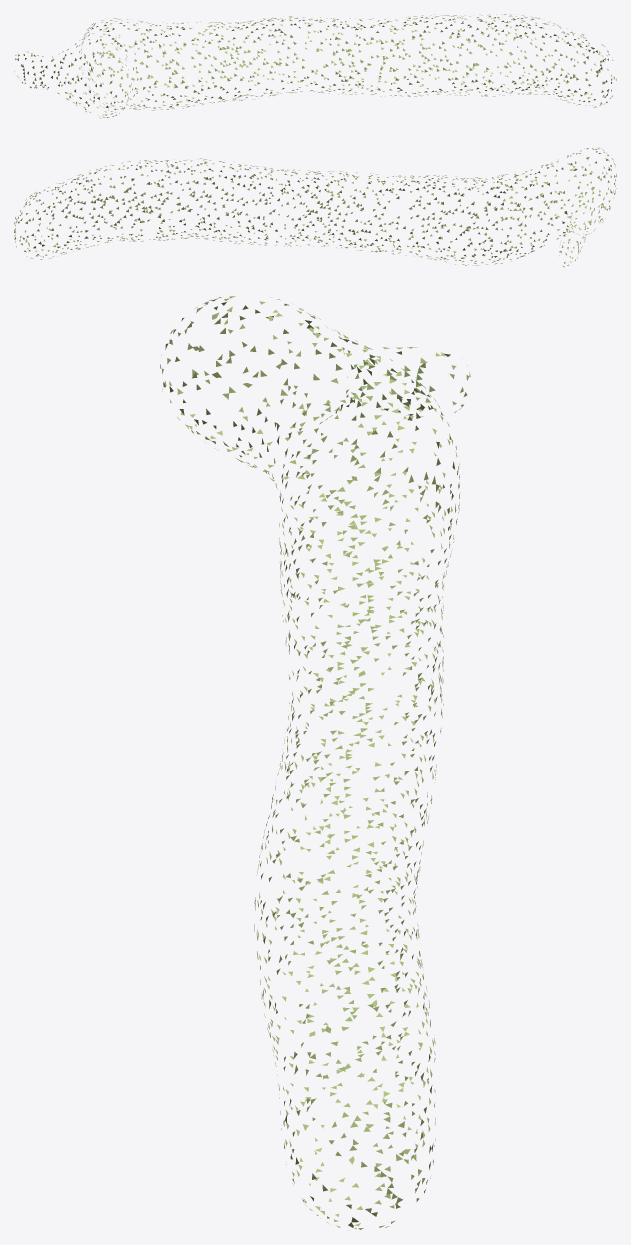
File: morph_011.glb
The picture shows the model from 3 angles, top to bottom: view 1: azimuth 30°, elevation 25°; view 2: azimuth 150°, elevation 25°; view 3: azimuth 270°, elevation 25°; orthographic projection. The views are drawn at different scales.
Size of the model in its own units: 129 by 45.81 by 30.42.
